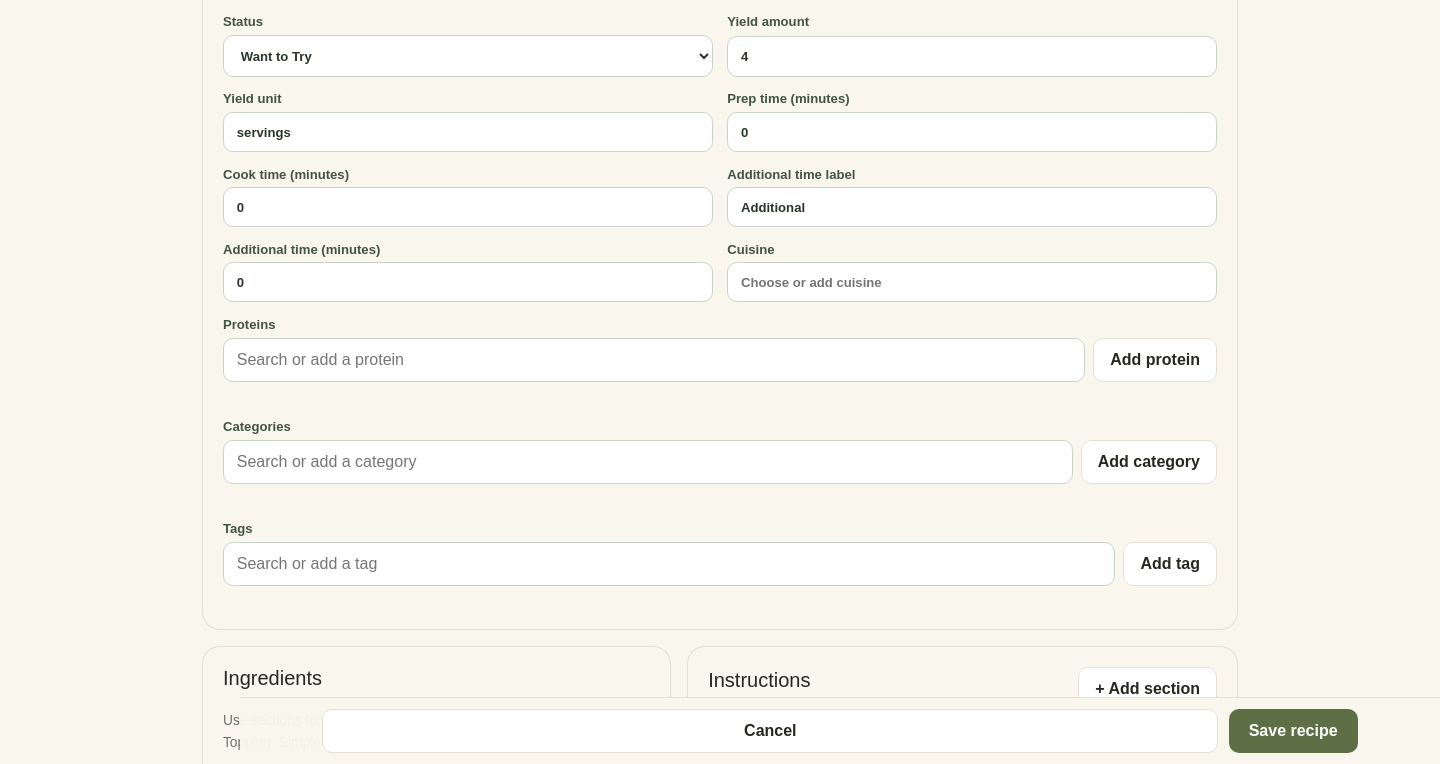
Test: RecipeForm › displays a searchable multi-select protein field
(page scrolled)
In the field labelled "Proteins": (654, 360) [223,338,1085,382], type "Chicken"
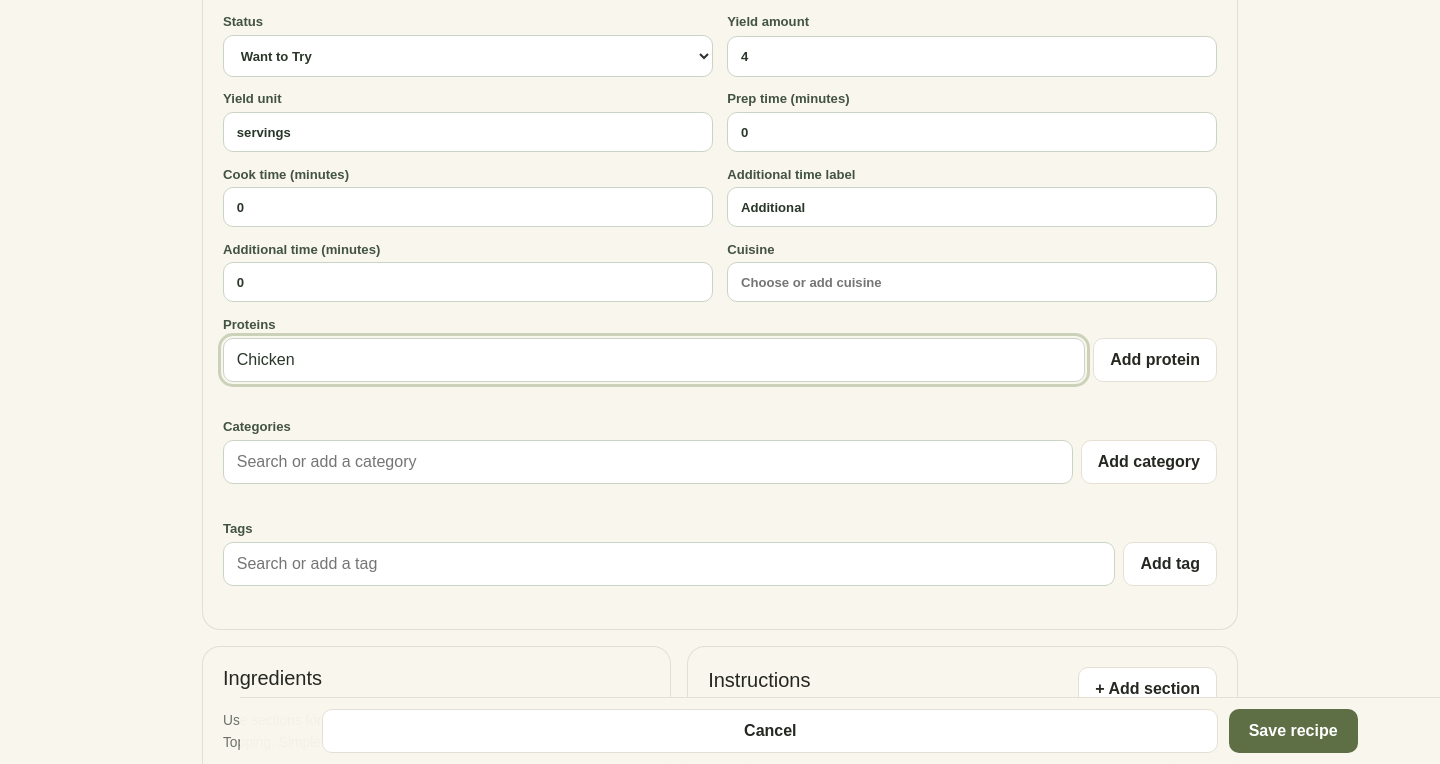
Press Enter
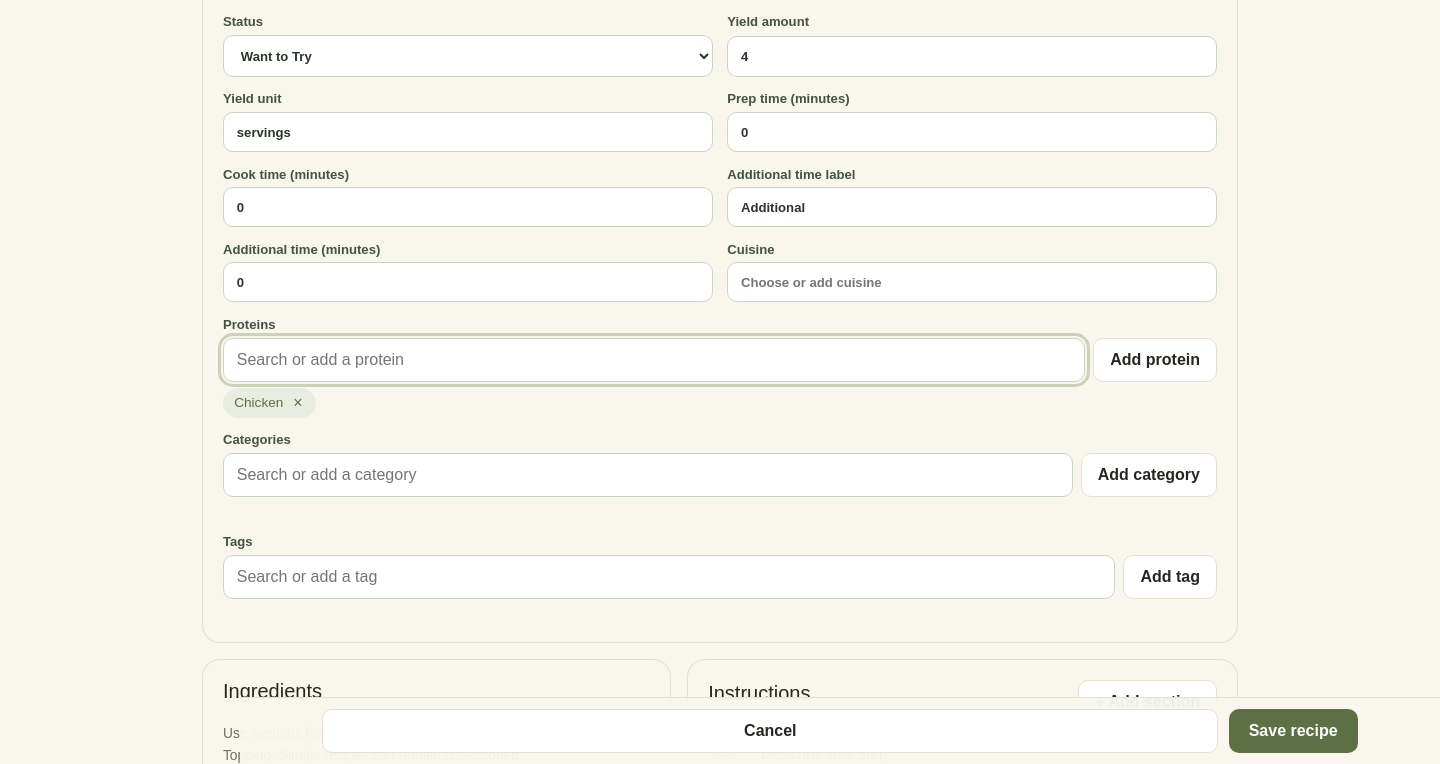
Expected: the text "Chicken" is shown, [234,395,283,410]
